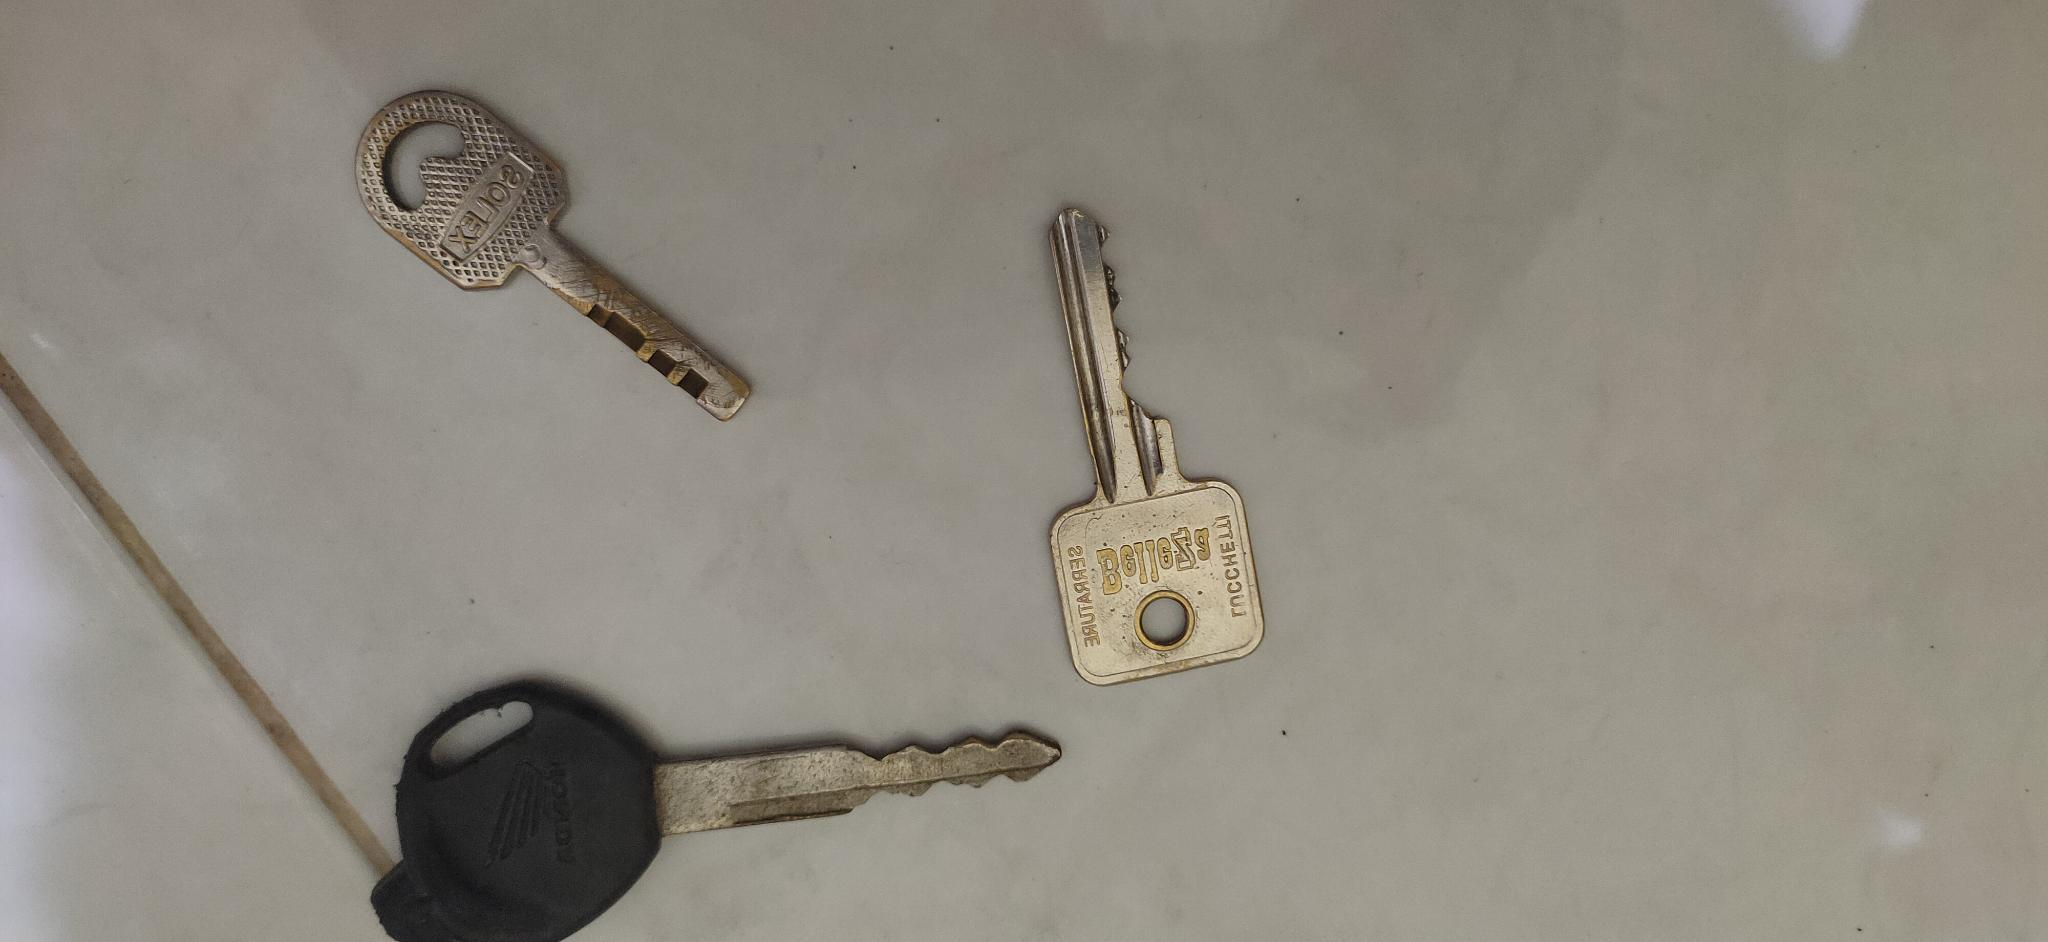keys: (359, 668, 1064, 941), (342, 61, 769, 443), (1031, 188, 1270, 704)
